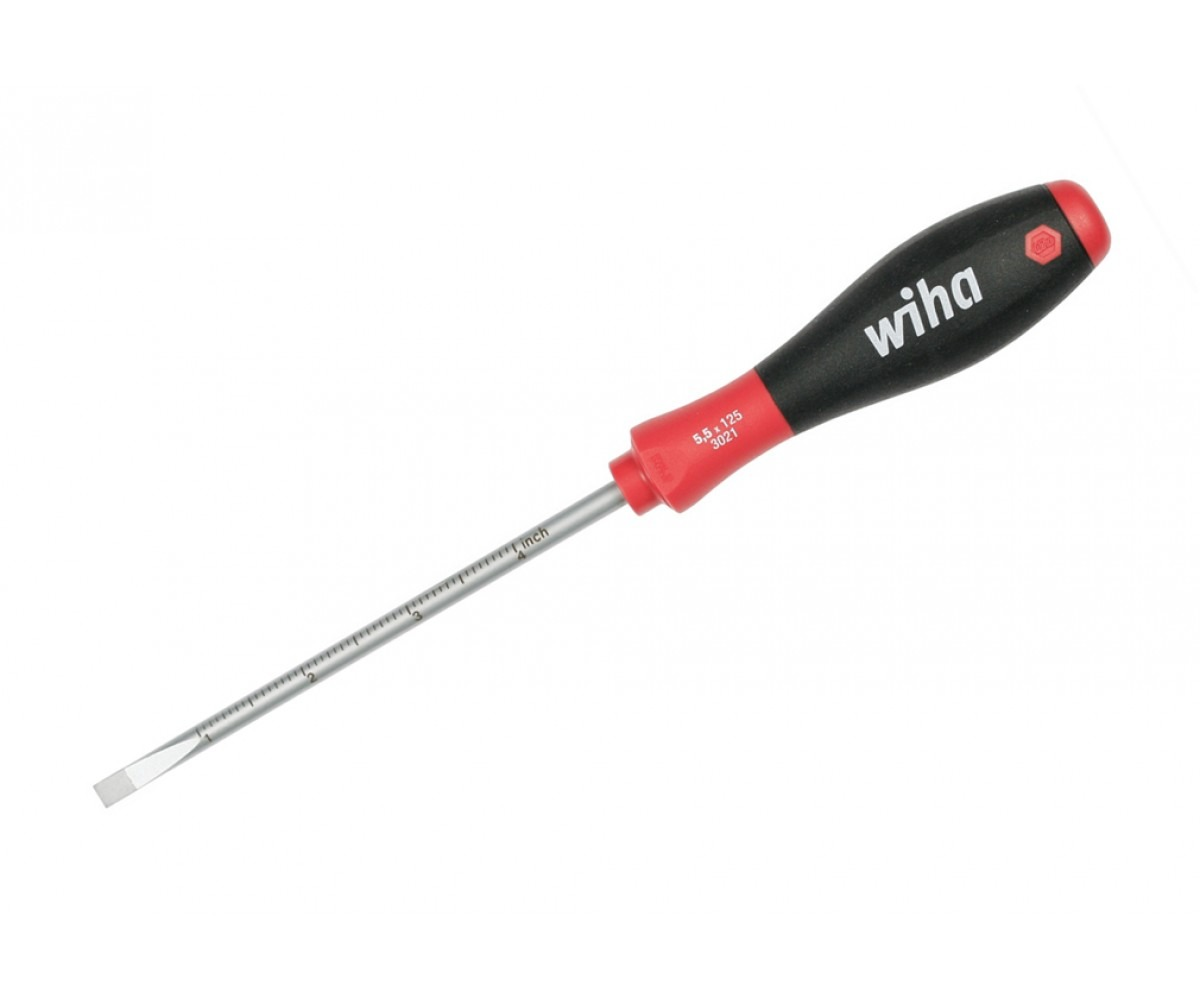screwdriver: (95, 173, 1115, 807)
